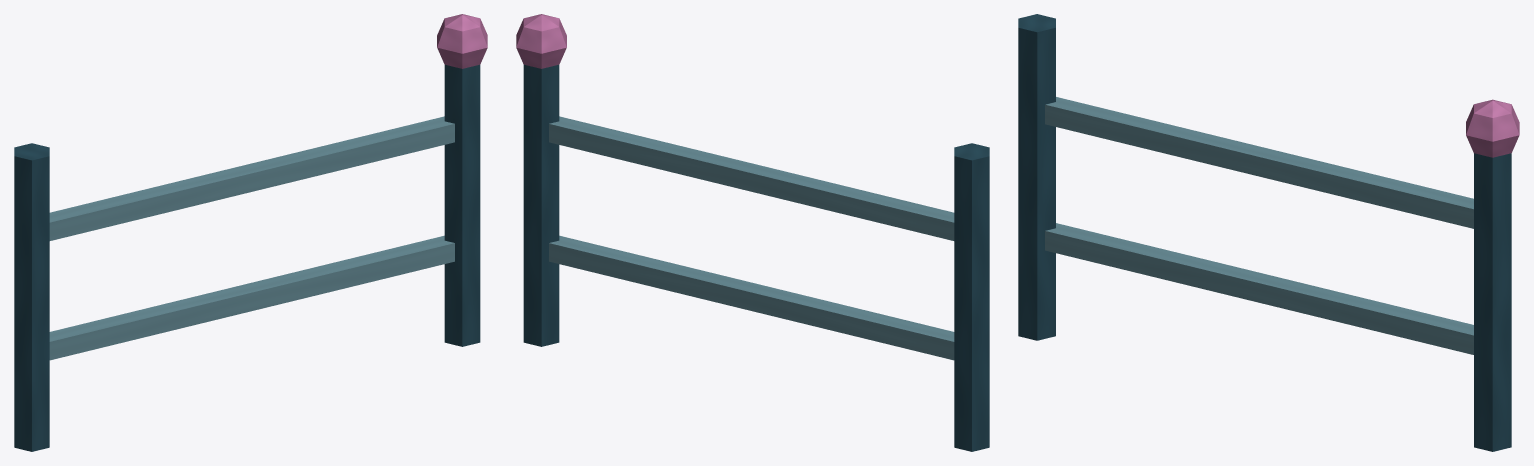
Rendered from atlas100-abyss-util04.lod1.glb.
3 renders of one model, left to right at view 1: azimuth 30°, elevation 25°; view 2: azimuth 150°, elevation 25°; view 3: azimuth 330°, elevation 25°, orthographic. The views are drawn at different scales.
Parts seen in each view (by area): view 1: atlas100-abyss-util04:part-005, atlas100-abyss-util04:part-004, atlas100-abyss-util04:part-000, atlas100-abyss-util04:part-002, atlas100-abyss-util04:part-003; view 2: atlas100-abyss-util04:part-005, atlas100-abyss-util04:part-004, atlas100-abyss-util04:part-000, atlas100-abyss-util04:part-002, atlas100-abyss-util04:part-003; view 3: atlas100-abyss-util04:part-004, atlas100-abyss-util04:part-005, atlas100-abyss-util04:part-000, atlas100-abyss-util04:part-002, atlas100-abyss-util04:part-003.
Part boxes in pixels (x1=…): atlas100-abyss-util04:part-005: x1=49, y1=116, x2=454, y2=240; atlas100-abyss-util04:part-004: x1=49, y1=235, x2=454, y2=360; atlas100-abyss-util04:part-000: x1=14, y1=143, x2=49, y2=451; atlas100-abyss-util04:part-002: x1=444, y1=64, x2=480, y2=346; atlas100-abyss-util04:part-003: x1=437, y1=14, x2=487, y2=68; atlas100-abyss-util04:part-005: x1=549, y1=116, x2=954, y2=240; atlas100-abyss-util04:part-004: x1=549, y1=235, x2=954, y2=360; atlas100-abyss-util04:part-000: x1=954, y1=143, x2=989, y2=451; atlas100-abyss-util04:part-002: x1=523, y1=64, x2=559, y2=346; atlas100-abyss-util04:part-003: x1=516, y1=14, x2=566, y2=68; atlas100-abyss-util04:part-004: x1=1045, y1=223, x2=1473, y2=354; atlas100-abyss-util04:part-005: x1=1045, y1=97, x2=1473, y2=228; atlas100-abyss-util04:part-000: x1=1018, y1=14, x2=1055, y2=340; atlas100-abyss-util04:part-002: x1=1474, y1=153, x2=1511, y2=451; atlas100-abyss-util04:part-003: x1=1466, y1=99, x2=1519, y2=157.
Bounding box in the file's own units: 2.13 × 1.39 × 0.1971.
3 materials, 3 textured.
